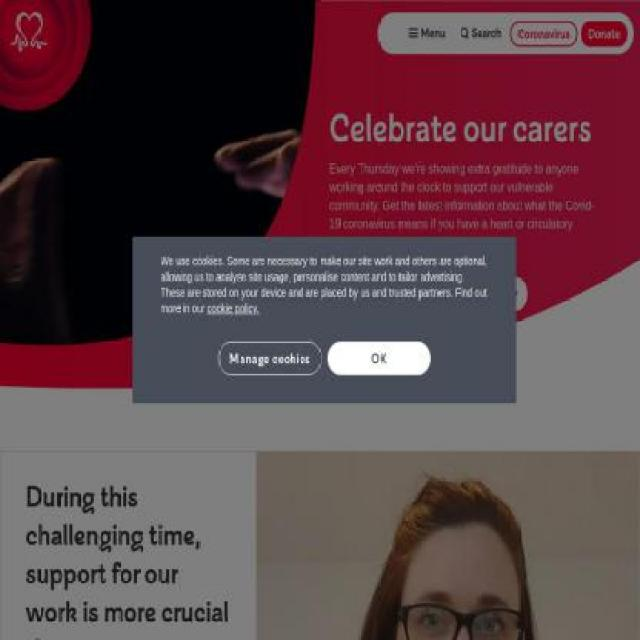button: (0, 0, 92, 111), (329, 275, 528, 311), (326, 342, 431, 376), (217, 342, 321, 376), (451, 13, 507, 53), (399, 13, 452, 53), (510, 19, 578, 47), (580, 19, 628, 47)
